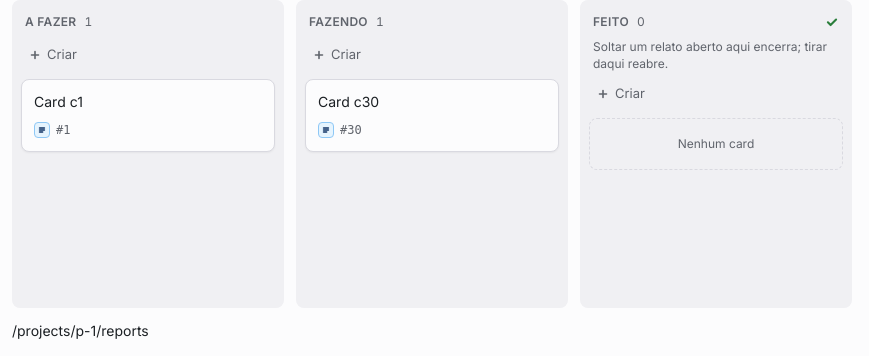
Test: criar na coluna (Q-05) › Enter cria direto na coluna, uma vez so; o card nasce no topo, a lista rola ate ele, e o campo continua aberto, vazio e com o foco
Step 1. Click the button with aria-label "Criar card em Fazendo" → point(432, 55), box [305, 39, 559, 71]
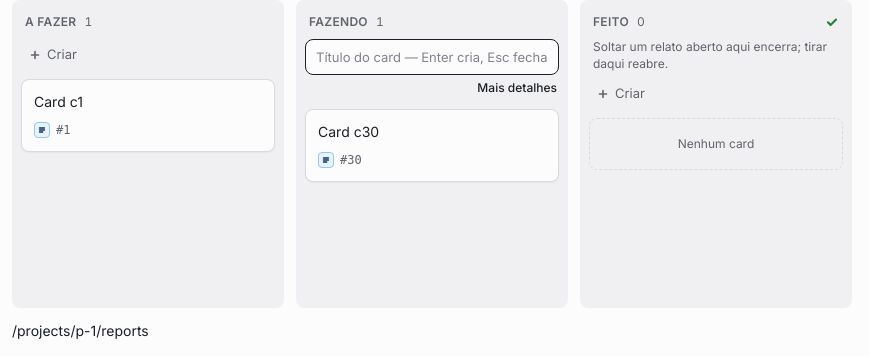
Step 2. Type "  Revisar o frete  " into the field with placeholder "Título do card — Enter cria, Esc fecha" → point(432, 57), box [305, 39, 559, 75]
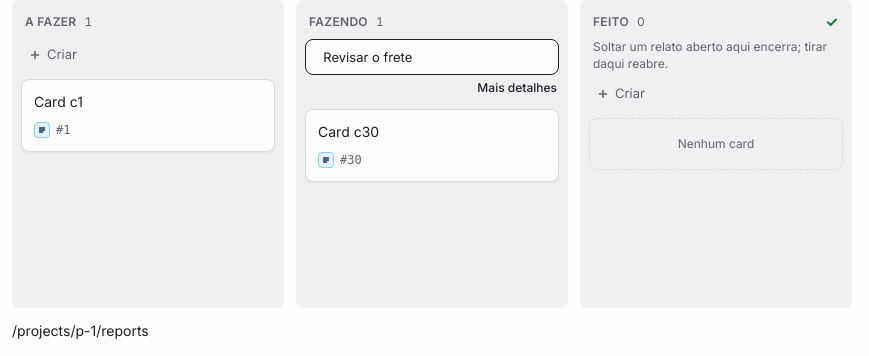
Step 3. Submit the form, box [297, 39, 567, 105]
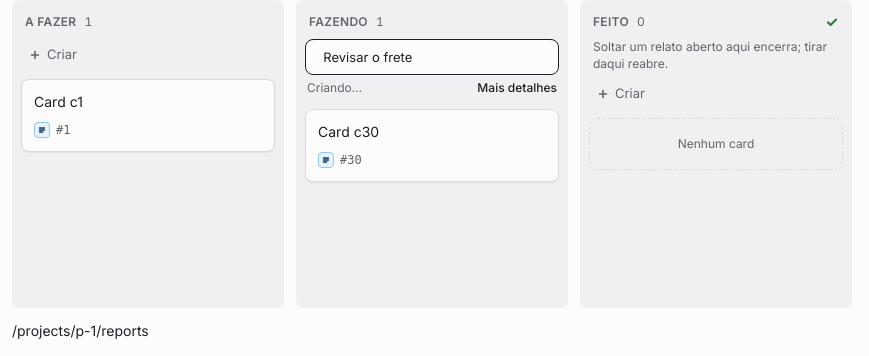
Result: the text "Criando…" is shown at [307, 79, 362, 97]
Step 4. Submit the form, box [297, 39, 567, 105]
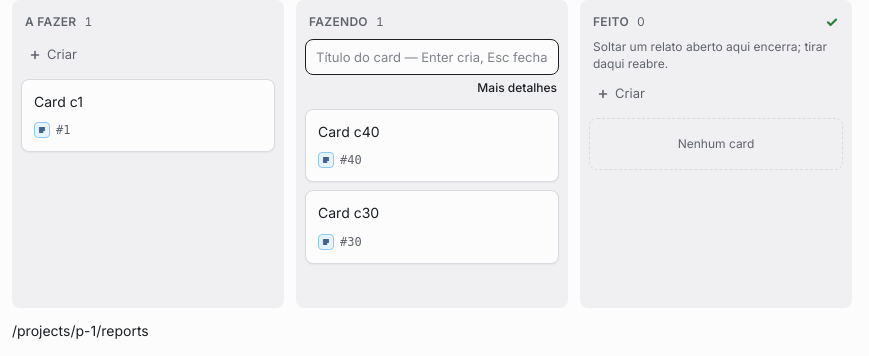
Result: the text "Criando…" is gone
